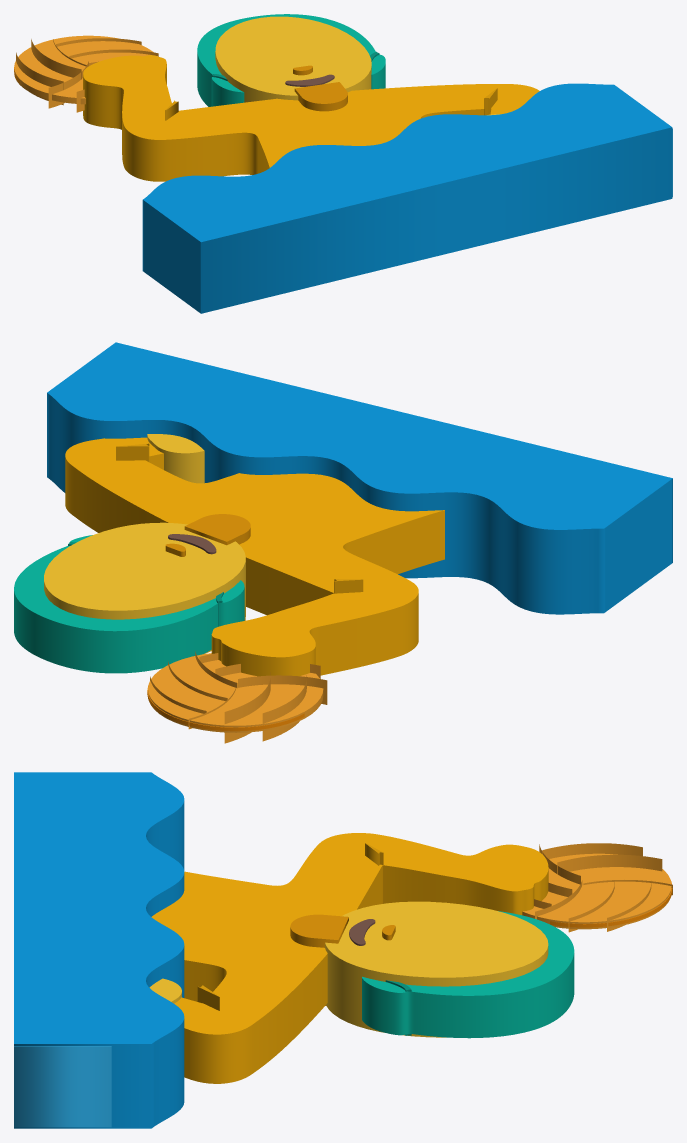
The model's file is emoji_u1f93d_200d_2642.glb.
The picture shows the model from 3 angles, top to bottom: view 1: azimuth 30°, elevation 25°; view 2: azimuth 150°, elevation 25°; view 3: azimuth 270°, elevation 25°; orthographic projection. The views are drawn at different scales.
Visible parts, largest first — view 1: emoji_u1f93d_200d_2642; view 2: emoji_u1f93d_200d_2642; view 3: emoji_u1f93d_200d_2642.
Boxes of the visible parts, <box> form: emoji_u1f93d_200d_2642: <box>14,14,672,313</box>; emoji_u1f93d_200d_2642: <box>14,342,672,743</box>; emoji_u1f93d_200d_2642: <box>14,772,672,1128</box>.
Size of the model in its own units: 0.0331 by 0.0048 by 0.0339.
